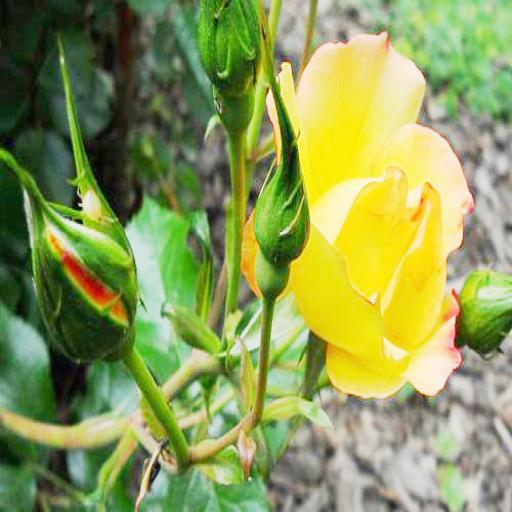rose: (269, 28, 473, 392)
